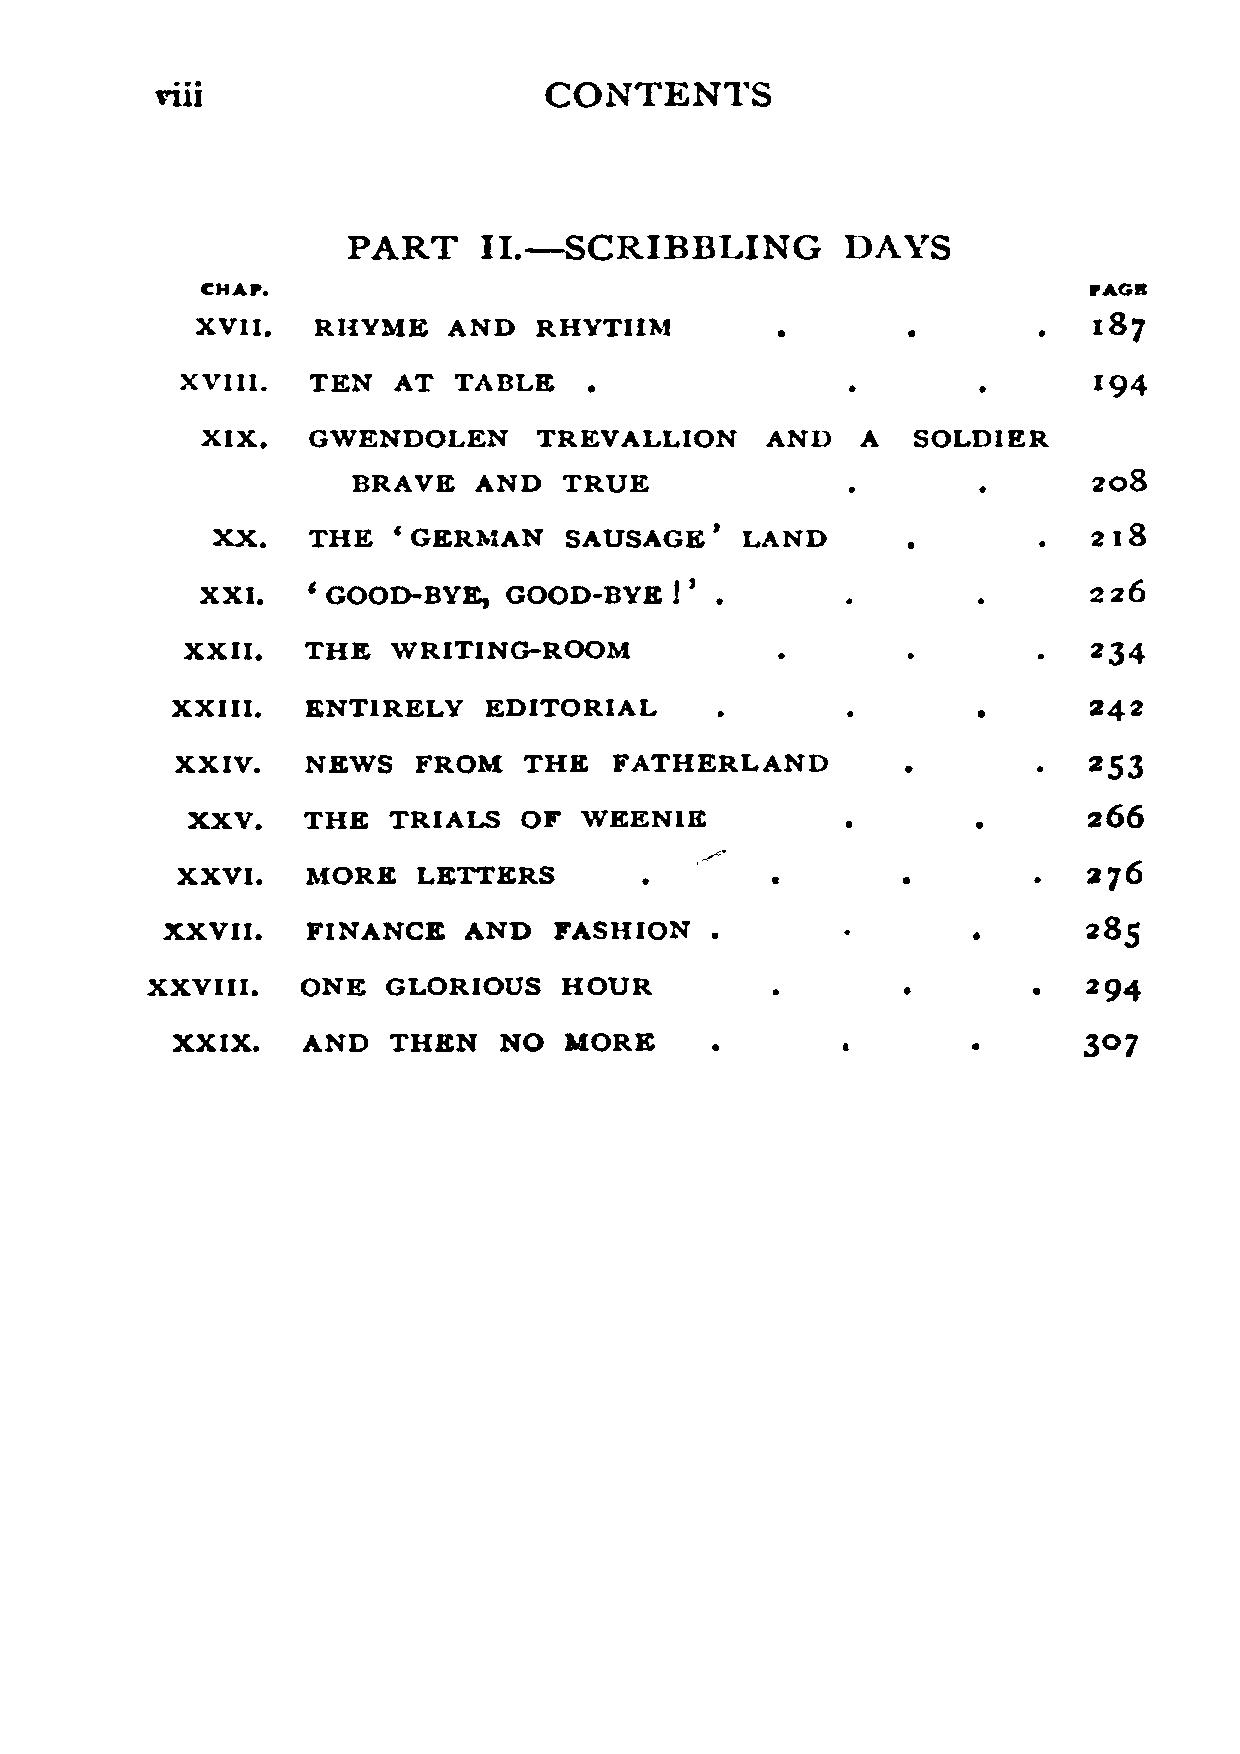TOC_chapter: (199, 417, 1056, 502), (340, 221, 960, 268), (208, 519, 839, 562), (195, 570, 699, 619), (144, 962, 663, 1007), (157, 910, 696, 951), (166, 747, 845, 778), (178, 631, 635, 672), (166, 1027, 663, 1062), (178, 309, 674, 342), (180, 803, 715, 833), (166, 690, 663, 722), (170, 855, 557, 888), (176, 368, 562, 393)
TOC_pagenumber: (1079, 848, 1145, 896), (1084, 360, 1150, 407), (1082, 962, 1147, 1007), (1084, 628, 1150, 670), (1086, 459, 1151, 501), (1082, 301, 1151, 340), (1086, 515, 1150, 554), (1082, 914, 1146, 951), (1084, 747, 1143, 781), (1084, 1029, 1141, 1063), (1086, 578, 1150, 607), (1084, 692, 1143, 719), (1086, 800, 1147, 825)
chapter: (531, 68, 784, 118)
